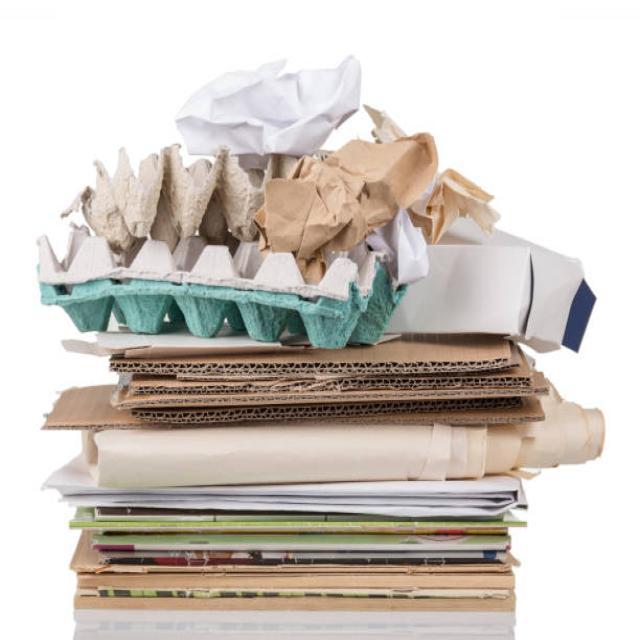cardboard: (15, 64, 573, 432)
